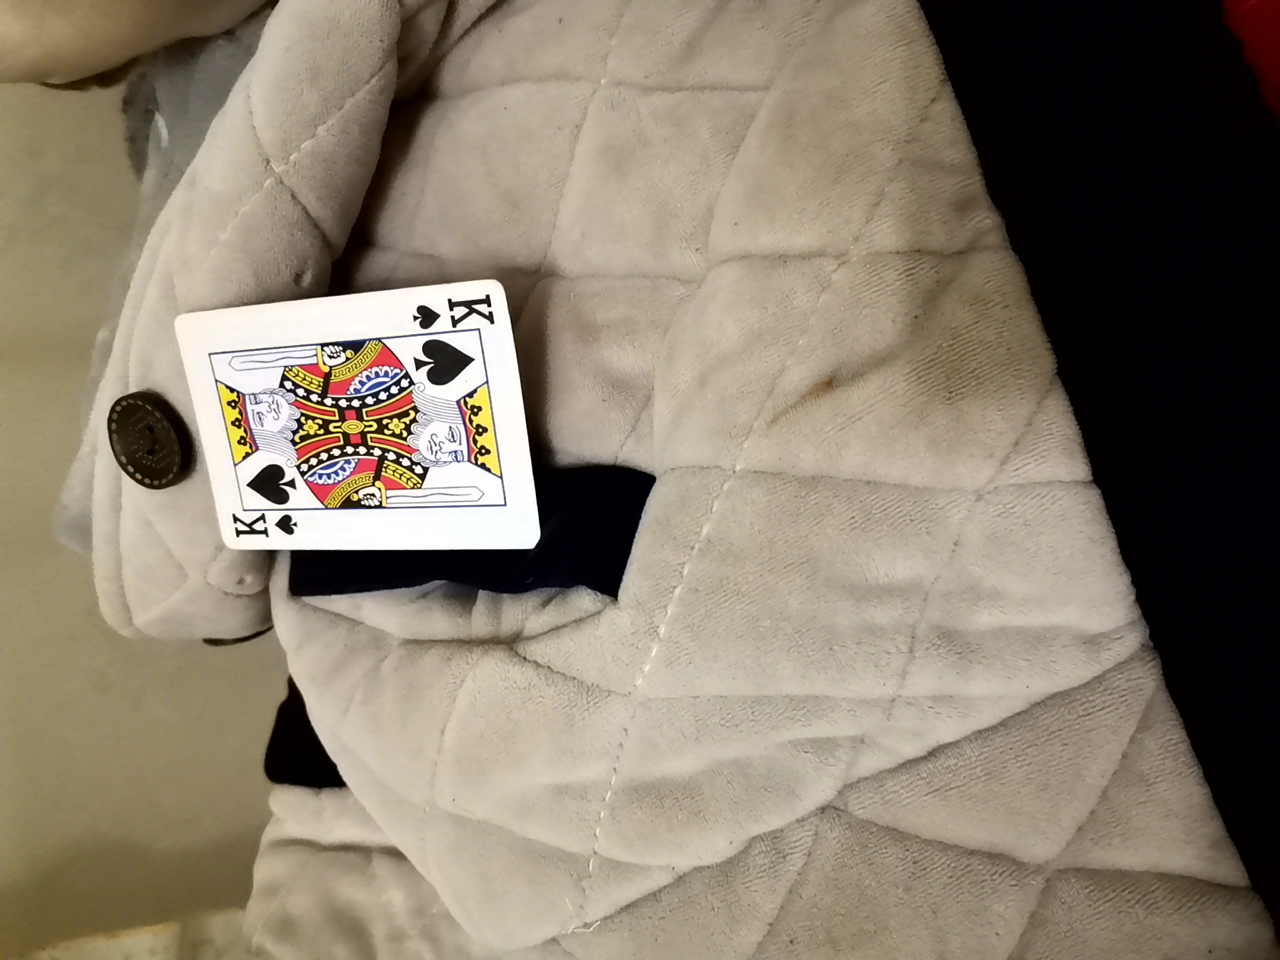ht k: (145, 260, 562, 560)
